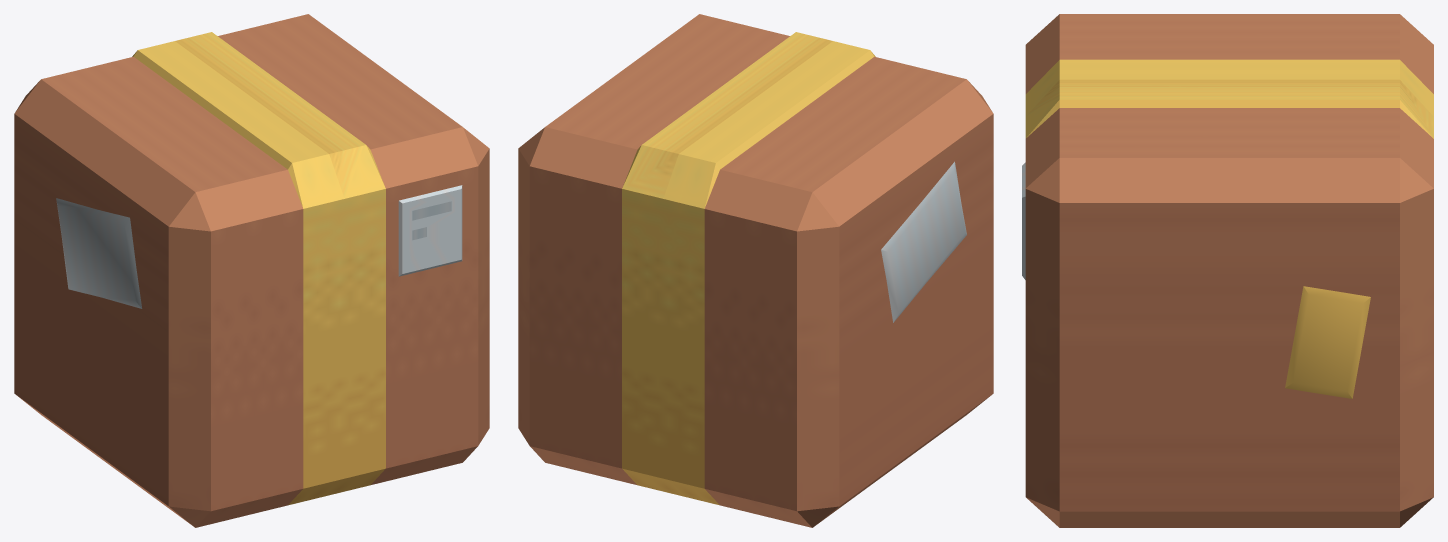
File: Containers_Box_Small.gltf
3 renders of one model, left to right at view 1: azimuth 30°, elevation 25°; view 2: azimuth 150°, elevation 25°; view 3: azimuth 270°, elevation 25°, orthographic. The views are drawn at different scales.
Visible parts, largest first — view 1: Containers_Box_Small; view 2: Containers_Box_Small; view 3: Containers_Box_Small.
Boxes of the visible parts, box(x1,y1,x2,y2) form: Containers_Box_Small: box(14, 14, 489, 527); Containers_Box_Small: box(518, 14, 993, 527); Containers_Box_Small: box(1022, 14, 1433, 527).
Size of the model in its own units: 0.4578 by 0.4575 by 0.4539.
1 material, 1 textured.
